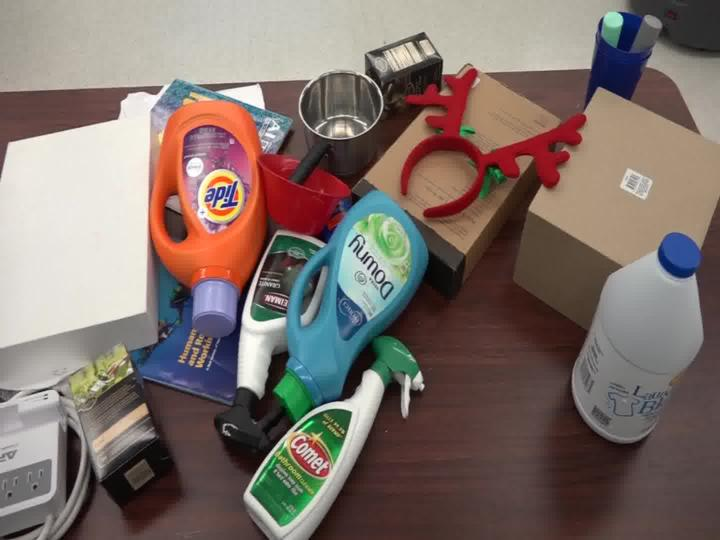tide: (125, 86, 275, 337)
